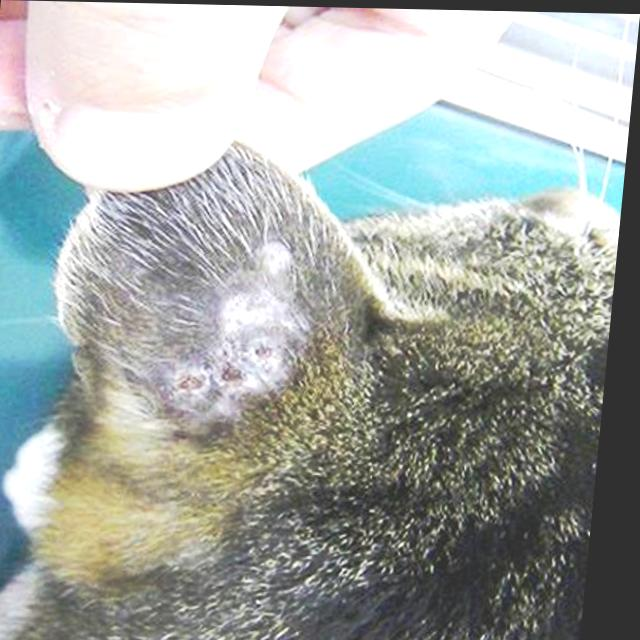ringworm: (154, 244, 291, 423)
